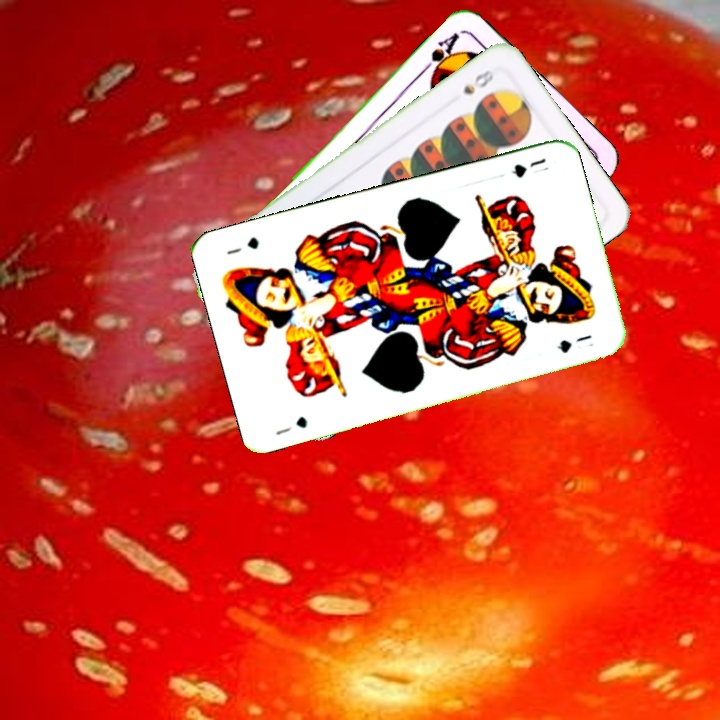GU: (507, 154, 548, 181), (272, 412, 310, 438)
S8: (459, 65, 499, 98)
SA: (417, 27, 462, 82)
